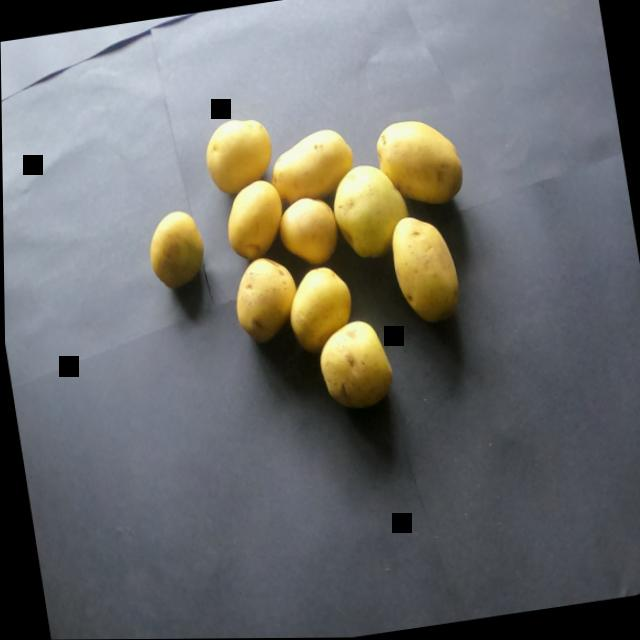Potato: (368, 101, 474, 222), (307, 302, 401, 423), (193, 98, 284, 195), (132, 206, 212, 298)
